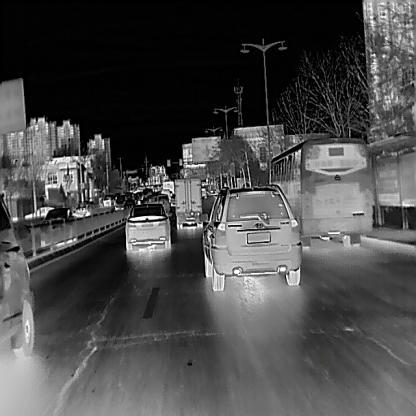car: (265, 136, 373, 250), (197, 182, 302, 290), (123, 201, 171, 250), (173, 177, 203, 229), (41, 206, 77, 247), (143, 193, 170, 218), (160, 179, 175, 201), (74, 198, 92, 214), (113, 193, 127, 210), (121, 198, 136, 212), (168, 192, 177, 206), (200, 186, 206, 198)
